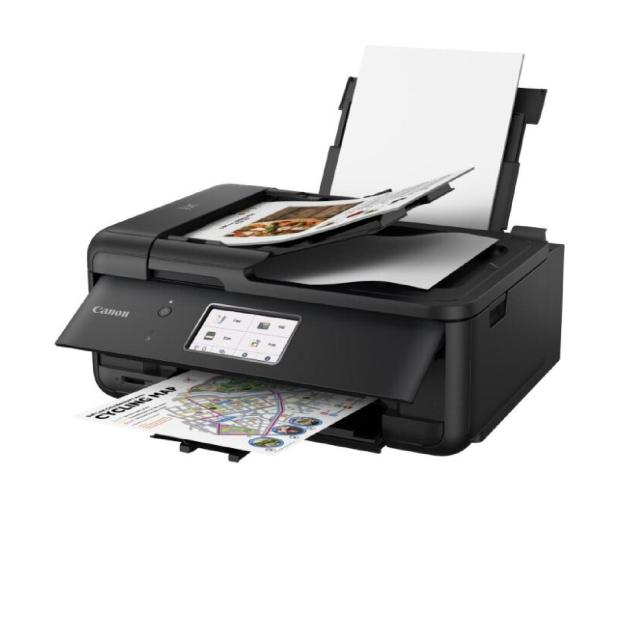printer: (54, 44, 566, 459)
